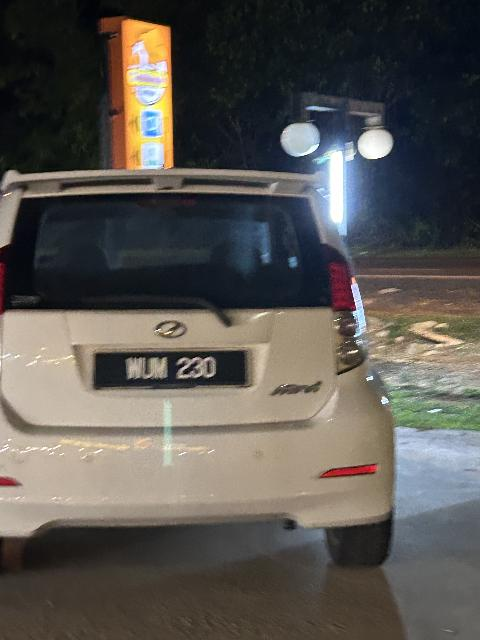License_Plate: (89, 344, 252, 396)
car: (1, 149, 405, 571)
